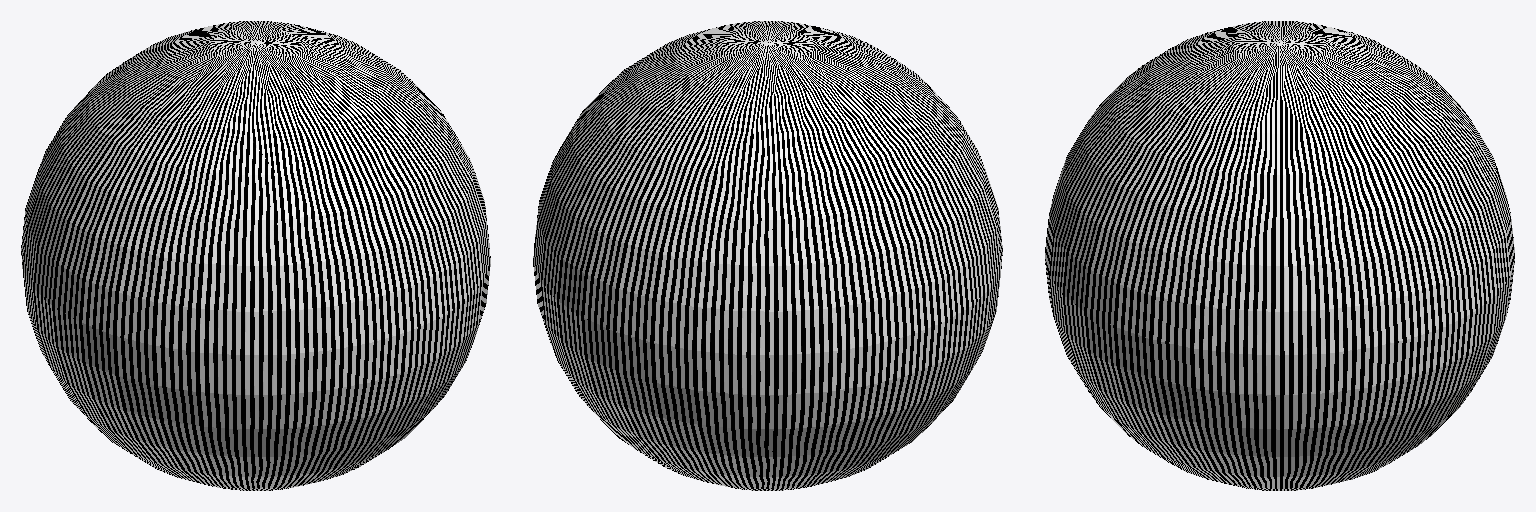
The picture shows the model from 3 angles: view 1: azimuth 30°, elevation 25°; view 2: azimuth 150°, elevation 25°; view 3: azimuth 270°, elevation 25°; orthographic projection.
Parts seen in each view (by area): view 1: Sphere; view 2: Sphere; view 3: Sphere.
Part boxes in pixels (x1,y1,x2,y2): Sphere: (21,21,490,490); Sphere: (533,21,1002,490); Sphere: (1045,21,1514,490).
Size of the model in its own units: 2.4 by 2.4 by 2.4.
1 materials, 1 textured.